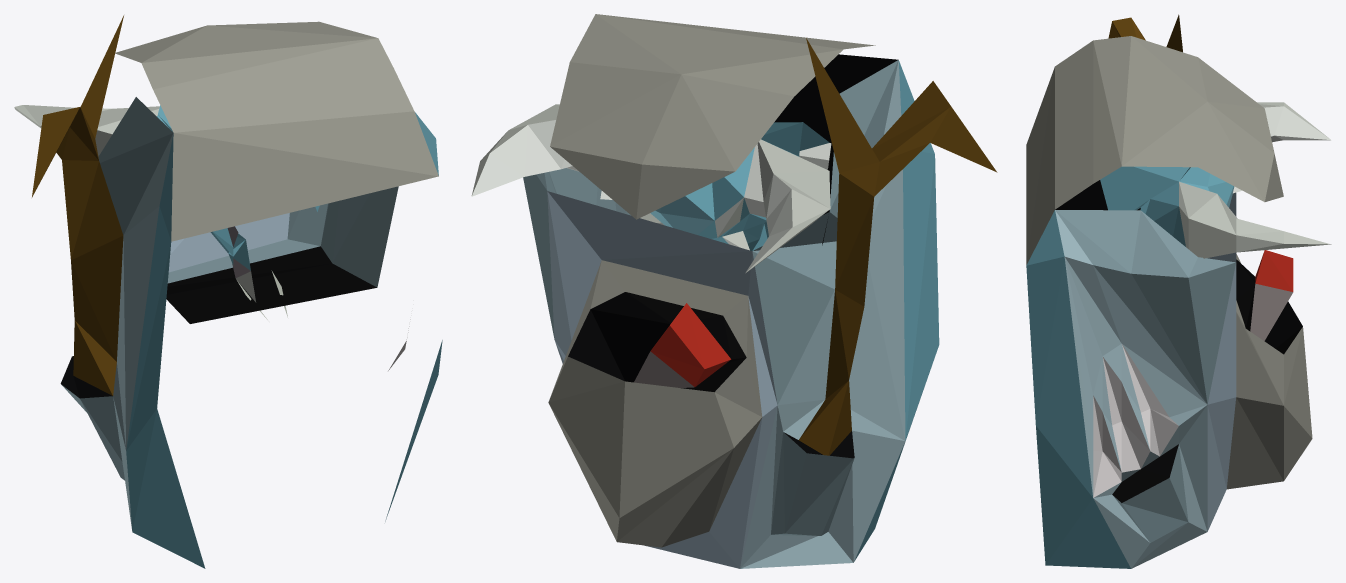
File: player_ava_s_assembler.glb
The picture shows the model from 3 angles, left to right: view 1: azimuth 30°, elevation 25°; view 2: azimuth 150°, elevation 25°; view 3: azimuth 270°, elevation 25°; orthographic projection. The views are drawn at different scales.
Bounding box in the file's own units: 45 × 54 × 32.
1 material, 1 textured.
